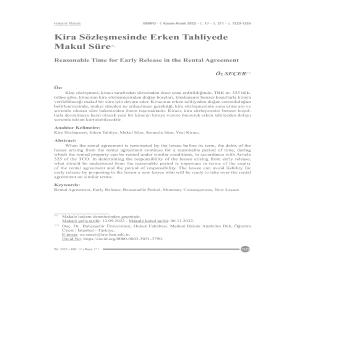footer: (53, 214, 256, 252)
header: (49, 18, 255, 28)
